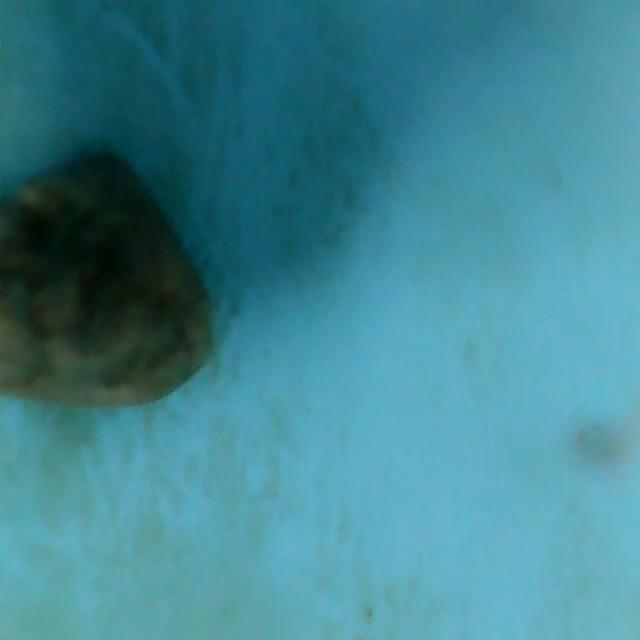rock: (0, 144, 218, 417)
